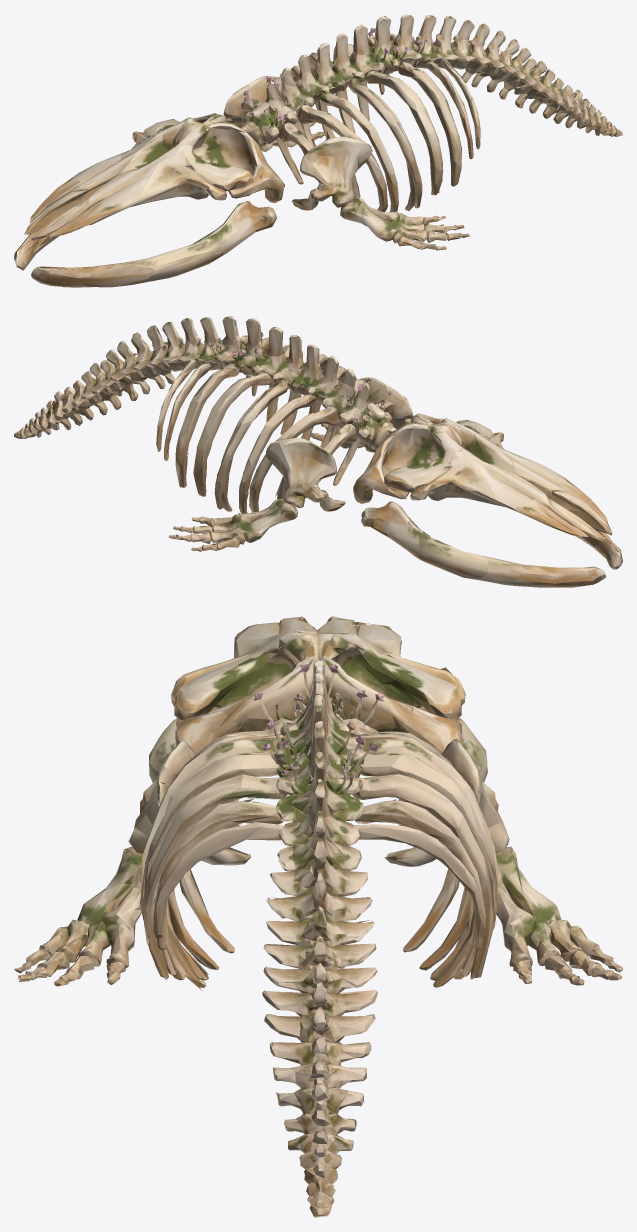
The model's file is east_whale.glb.
The picture shows the model from 3 angles, top to bottom: view 1: azimuth 30°, elevation 25°; view 2: azimuth 150°, elevation 25°; view 3: azimuth 270°, elevation 25°; orthographic projection. The views are drawn at different scales.
Parts seen in each view (by area): view 1: Mesh_0; view 2: Mesh_0; view 3: Mesh_0.
Part boxes in pixels (left/top/right/bottom): Mesh_0: left=14, top=14, right=622, bottom=287; Mesh_0: left=14, top=316, right=622, bottom=587; Mesh_0: left=14, top=616, right=622, bottom=1217.
Size of the model in its own units: 30 by 8.4 by 14.79.
1 material, 1 textured.
